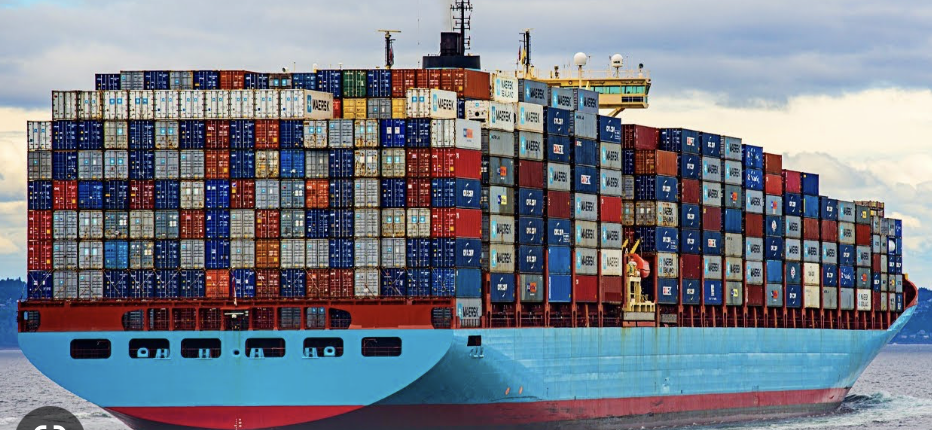ship: (17, 16, 910, 409)
